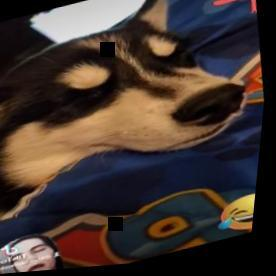nasal_discharge: (226, 100, 257, 129)
